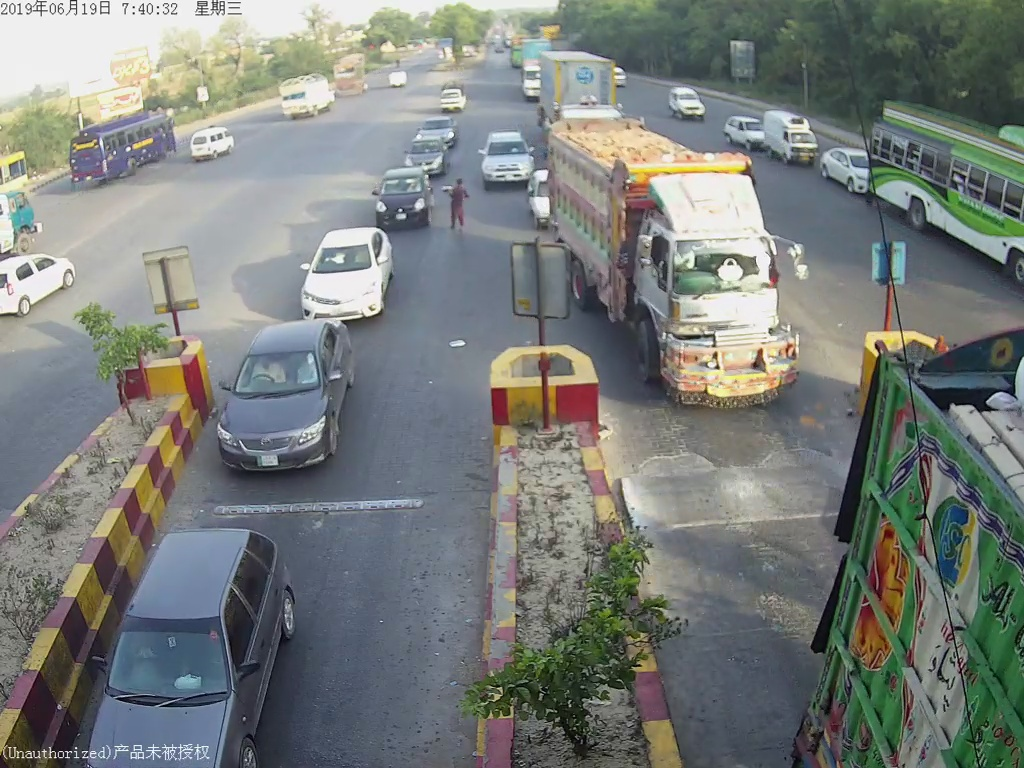Cat-1: (219, 320, 358, 484), (297, 225, 389, 315), (372, 166, 439, 227)
Cat-4: (550, 119, 806, 405)
